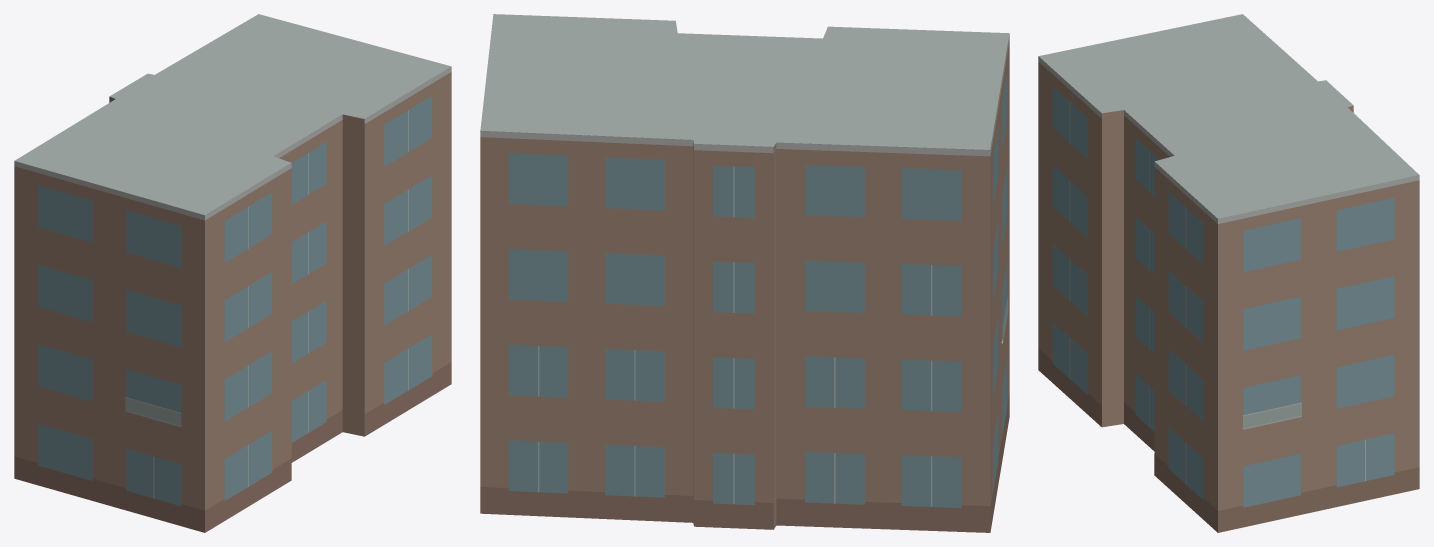
The model's file is survey-upis-32953304.glb.
3 views of the same model, side by side, from view 1: azimuth 30°, elevation 25°; view 2: azimuth 150°, elevation 25°; view 3: azimuth 270°, elevation 25° (orthographic). The views are drawn at different scales.
Parts seen in each view (by area): view 1: survey-upis-32953304.tmp; view 2: survey-upis-32953304.tmp; view 3: survey-upis-32953304.tmp.
Part boxes in pixels (x1,y1,x2,y2): survey-upis-32953304.tmp: (14, 14, 451, 532); survey-upis-32953304.tmp: (480, 14, 1009, 532); survey-upis-32953304.tmp: (1038, 14, 1419, 532).
Bounding box in the file's own units: 20.51 × 14.65 × 16.12.
